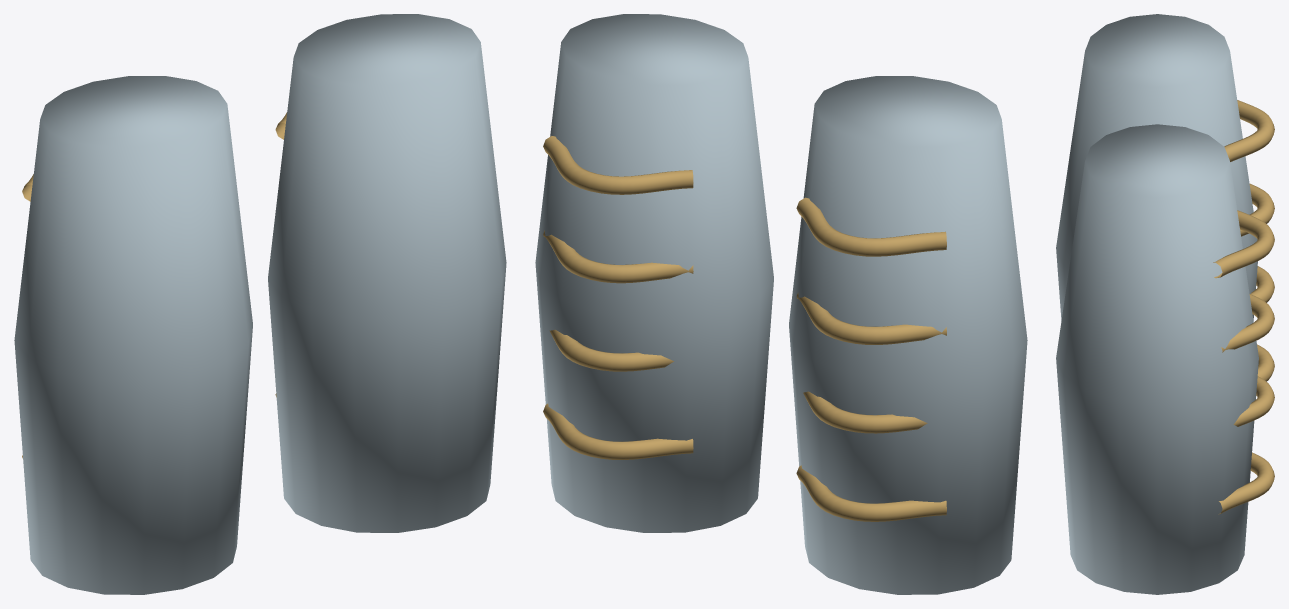
The model's file is steel_greaves.glb.
The picture shows the model from 3 angles, left to right: view 1: azimuth 30°, elevation 25°; view 2: azimuth 150°, elevation 25°; view 3: azimuth 270°, elevation 25°; orthographic projection. The views are drawn at different scales.
Visible parts, largest first — view 1: Articulated shell, Articulated shell.001; view 2: Articulated shell, Articulated shell.001, Panel piping.003, Panel piping.007, Panel piping.004, Panel piping, Panel piping.006, Panel piping.002, Panel piping.001, Panel piping.005; view 3: Articulated shell.001, Articulated shell, Panel piping.007, Panel piping.003, Panel piping.004, Panel piping.006, Panel piping.005, Panel piping.002, Panel piping.001, Panel piping.
Boxes of the visible parts, x1,y1,x2,y2 form: Articulated shell: (14, 76, 252, 594); Articulated shell.001: (268, 14, 506, 532); Articulated shell: (789, 76, 1027, 594); Articulated shell.001: (535, 14, 773, 532); Panel piping.003: (796, 197, 946, 256); Panel piping.007: (543, 136, 693, 194); Panel piping.004: (543, 403, 693, 459); Panel piping: (796, 465, 946, 521); Panel piping.006: (543, 230, 693, 283); Panel piping.002: (796, 292, 946, 344); Panel piping.001: (803, 391, 927, 433); Panel piping.005: (549, 329, 673, 371); Articulated shell.001: (1056, 124, 1258, 594); Articulated shell: (1056, 14, 1257, 320); Panel piping.007: (1213, 210, 1274, 278); Panel piping.003: (1224, 100, 1274, 161); Panel piping.004: (1218, 452, 1274, 514); Panel piping.006: (1221, 294, 1274, 352); Panel piping.005: (1233, 376, 1274, 426); Panel piping.002: (1240, 183, 1274, 236); Panel piping.001: (1251, 266, 1274, 302); Panel piping: (1257, 344, 1274, 381).
Size of the model in its own units: 0.66 by 0.6 by 0.302.
